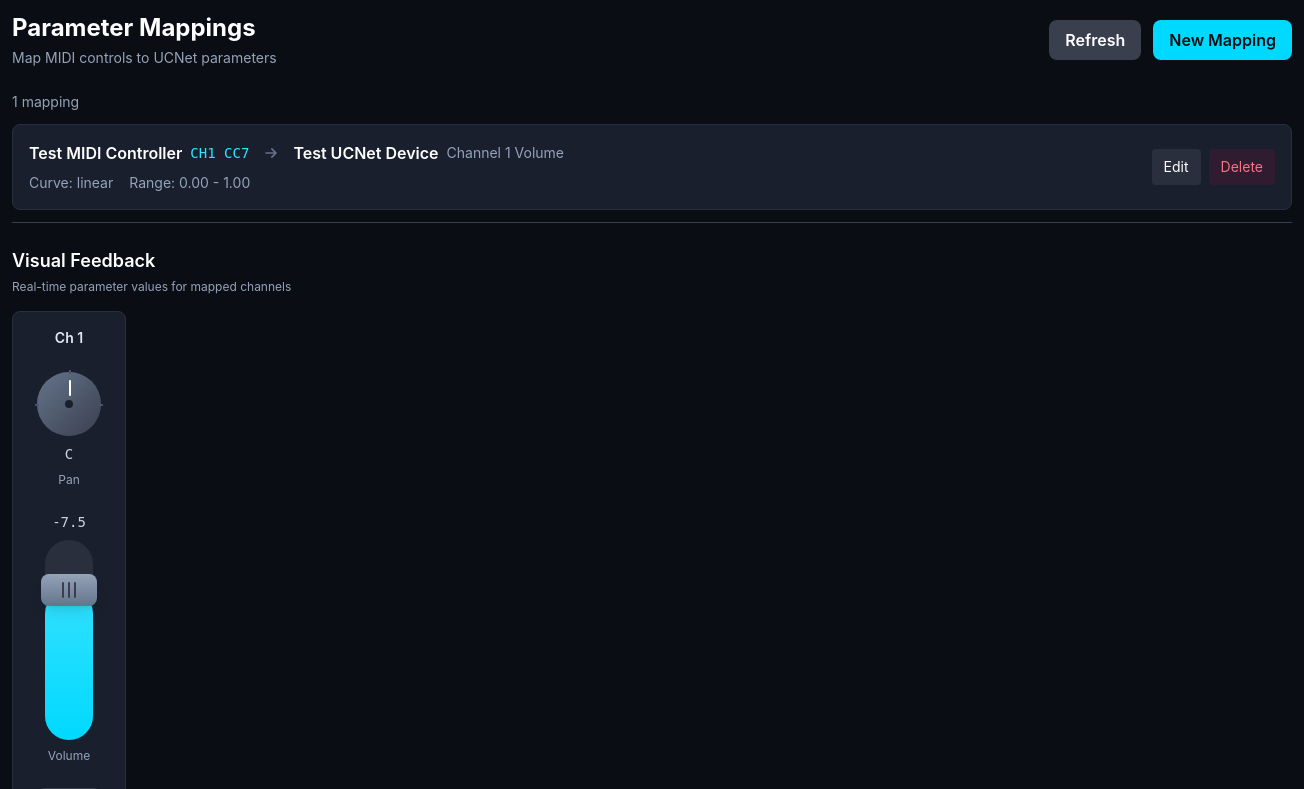
Test: MappingManager › opens create form when New Mapping button is clicked
Click the button "New Mapping": (1223, 40) [1153,20,1292,60]
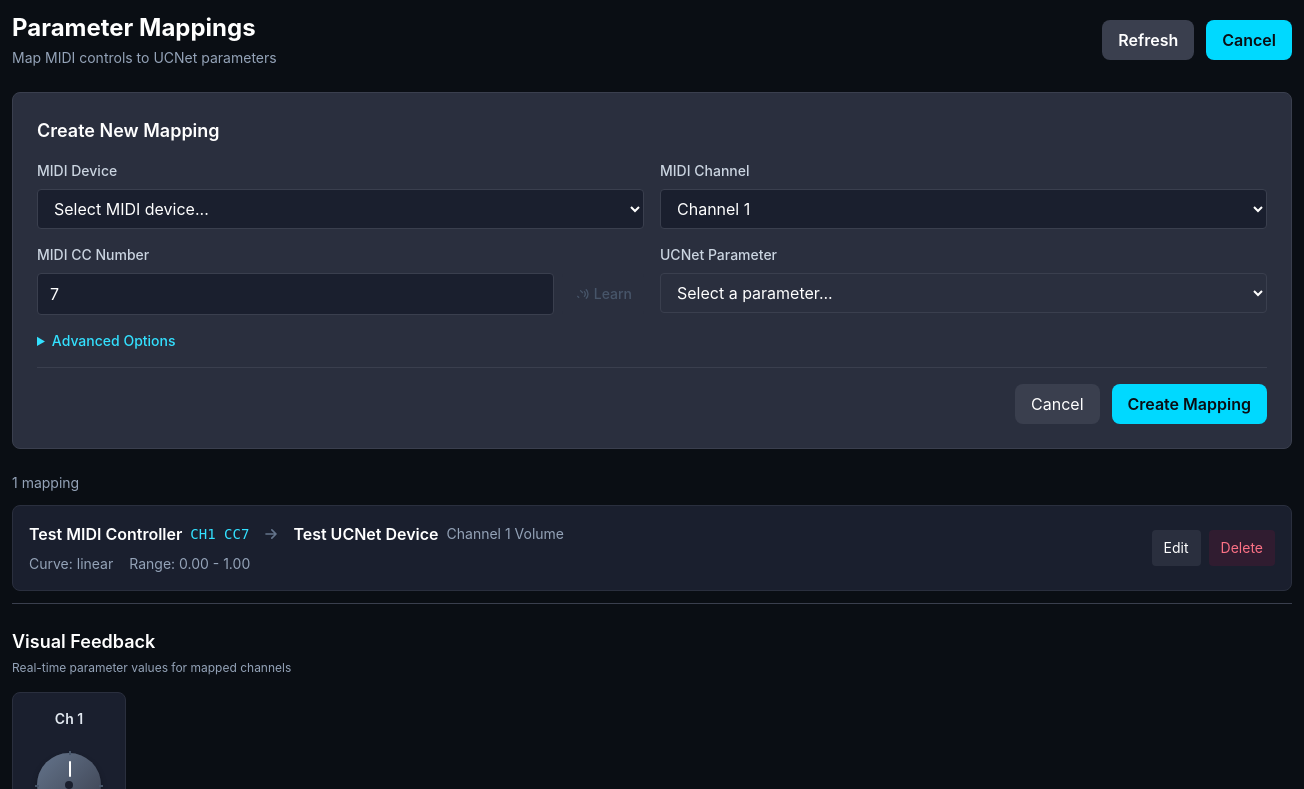
Expected: the heading "Create New Mapping" is shown, [37,120,220,141]
